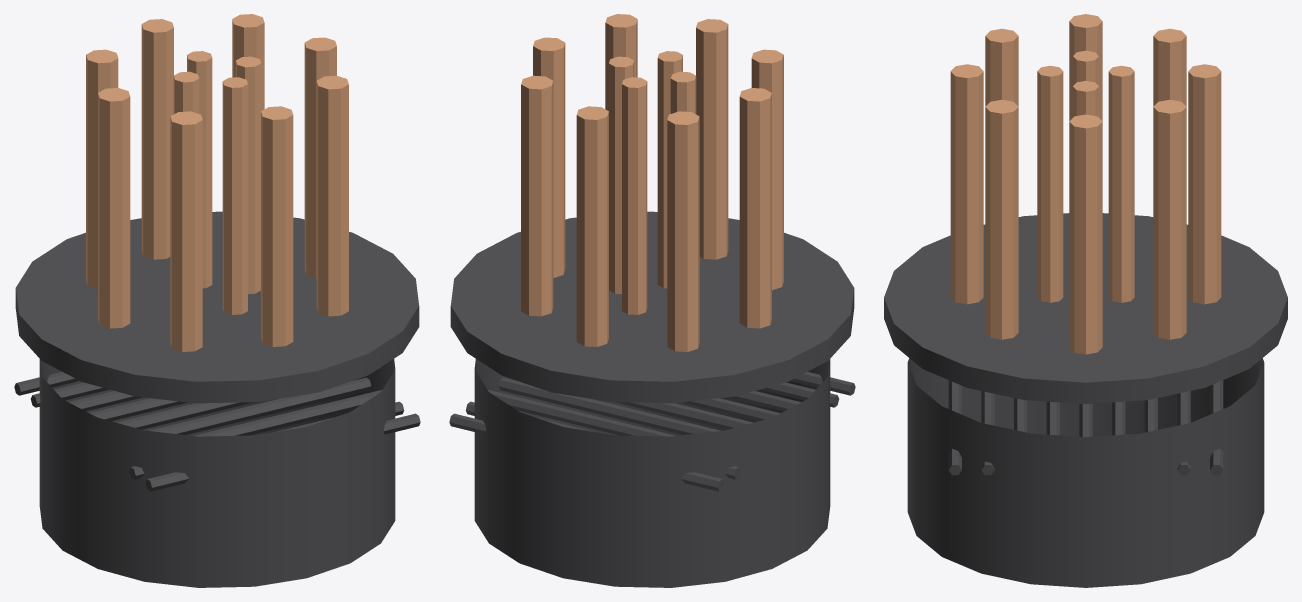
File: Boiler_Internals.glb
3 renders of one model, left to right at view 1: azimuth 30°, elevation 25°; view 2: azimuth 150°, elevation 25°; view 3: azimuth 270°, elevation 25°, orthographic.
Visible parts, largest first — view 1: Boiler_Internals; view 2: Boiler_Internals; view 3: Boiler_Internals.
Boxes of the visible parts, x1,y1,x2,y2 form: Boiler_Internals: [14, 14, 420, 587]; Boiler_Internals: [449, 14, 855, 587]; Boiler_Internals: [884, 14, 1287, 587].
Size of the model in its own units: 0.68 by 0.82 by 0.68.
